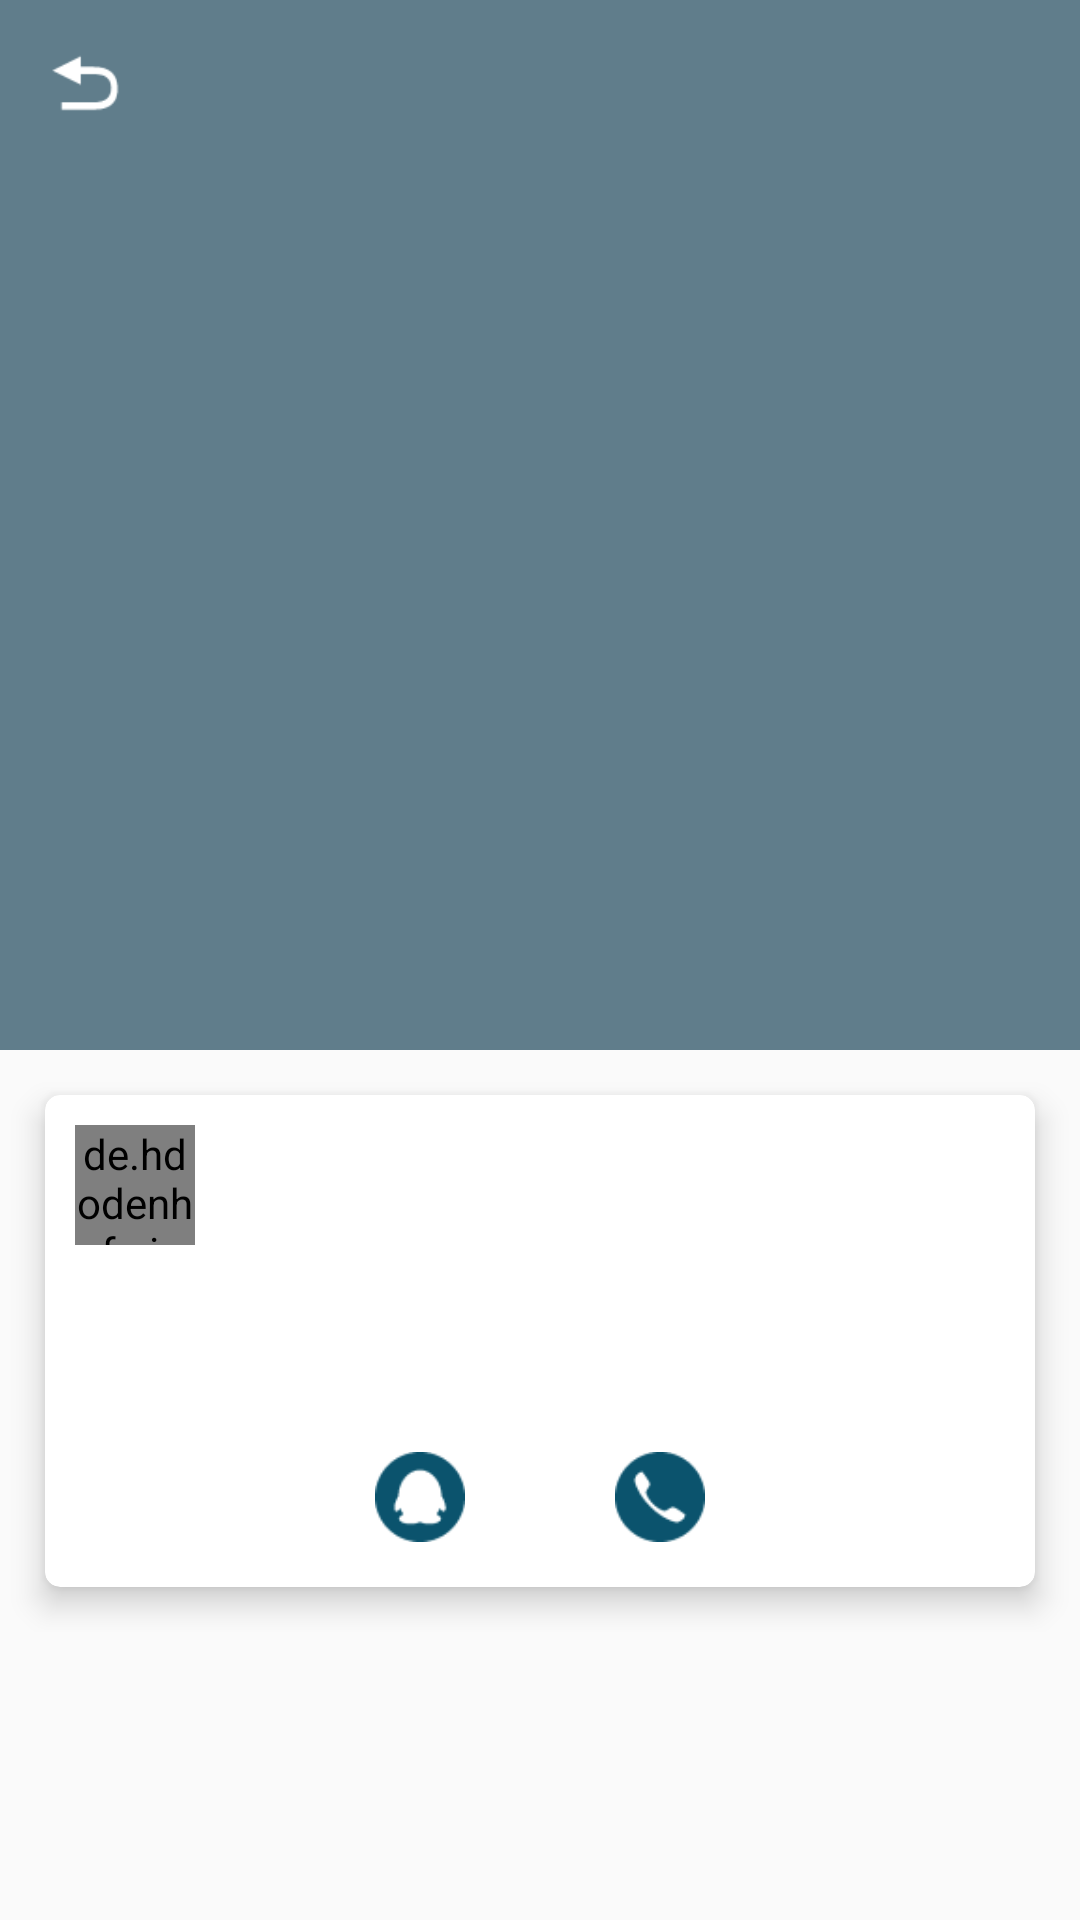

Icon click points for this 1080*1920 phone screenshot, format (x=x, y=y):
back: (x=85, y=83)
phone: (x=660, y=1497)
